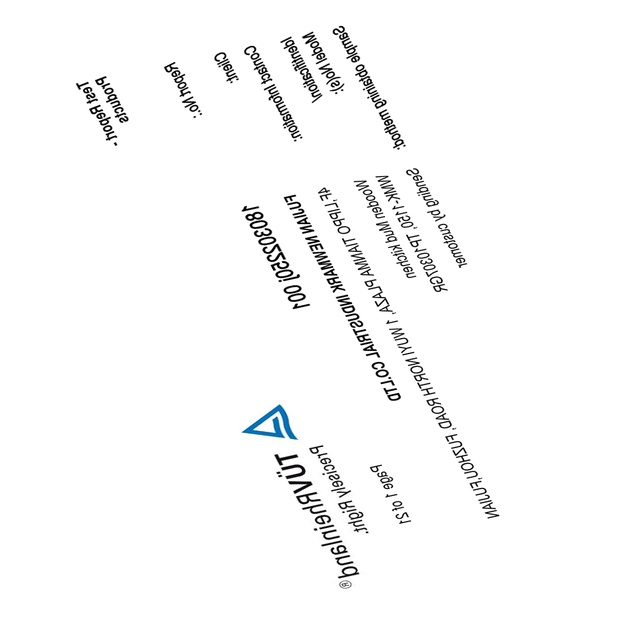tuv_rheinland: (241, 400, 364, 594)
